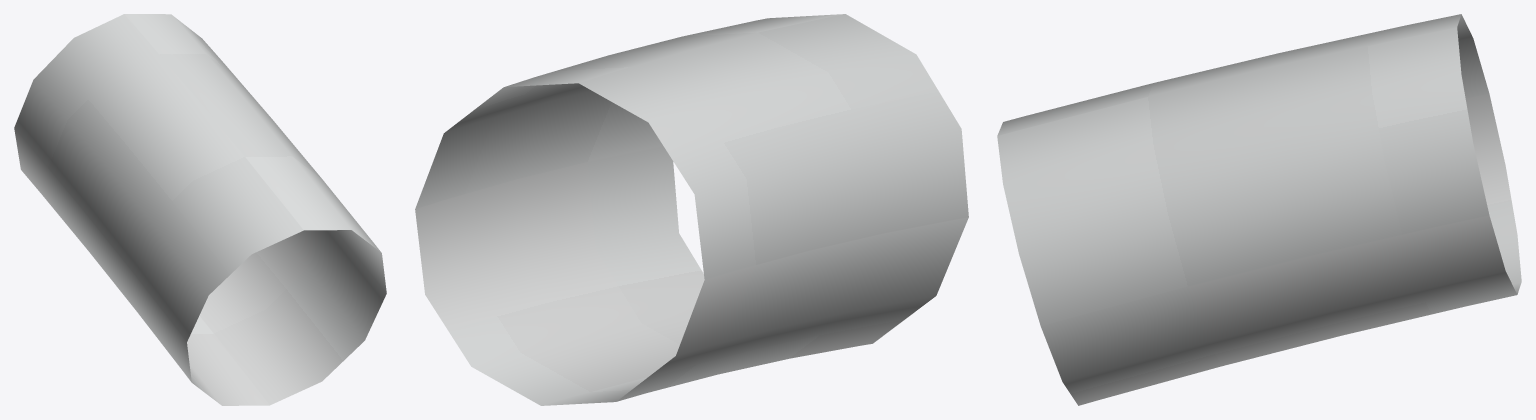
The model's file is luminairearm_anaheim8ft_c3.obj.
3 views of the same model, side by side, from view 1: azimuth 30°, elevation 25°; view 2: azimuth 150°, elevation 25°; view 3: azimuth 270°, elevation 25° (orthographic). The views are drawn at different scales.
Visible parts, largest first — view 1: luminairearm_anaheim8ft_c3; view 2: luminairearm_anaheim8ft_c3; view 3: luminairearm_anaheim8ft_c3.
Boxes of the visible parts, left/top/right/bottom form: luminairearm_anaheim8ft_c3: left=14, top=14, right=386, bottom=405; luminairearm_anaheim8ft_c3: left=415, top=14, right=968, bottom=405; luminairearm_anaheim8ft_c3: left=997, top=14, right=1521, bottom=405.
Size of the model in its own units: 0.1667 by 0.2269 by 0.296.
